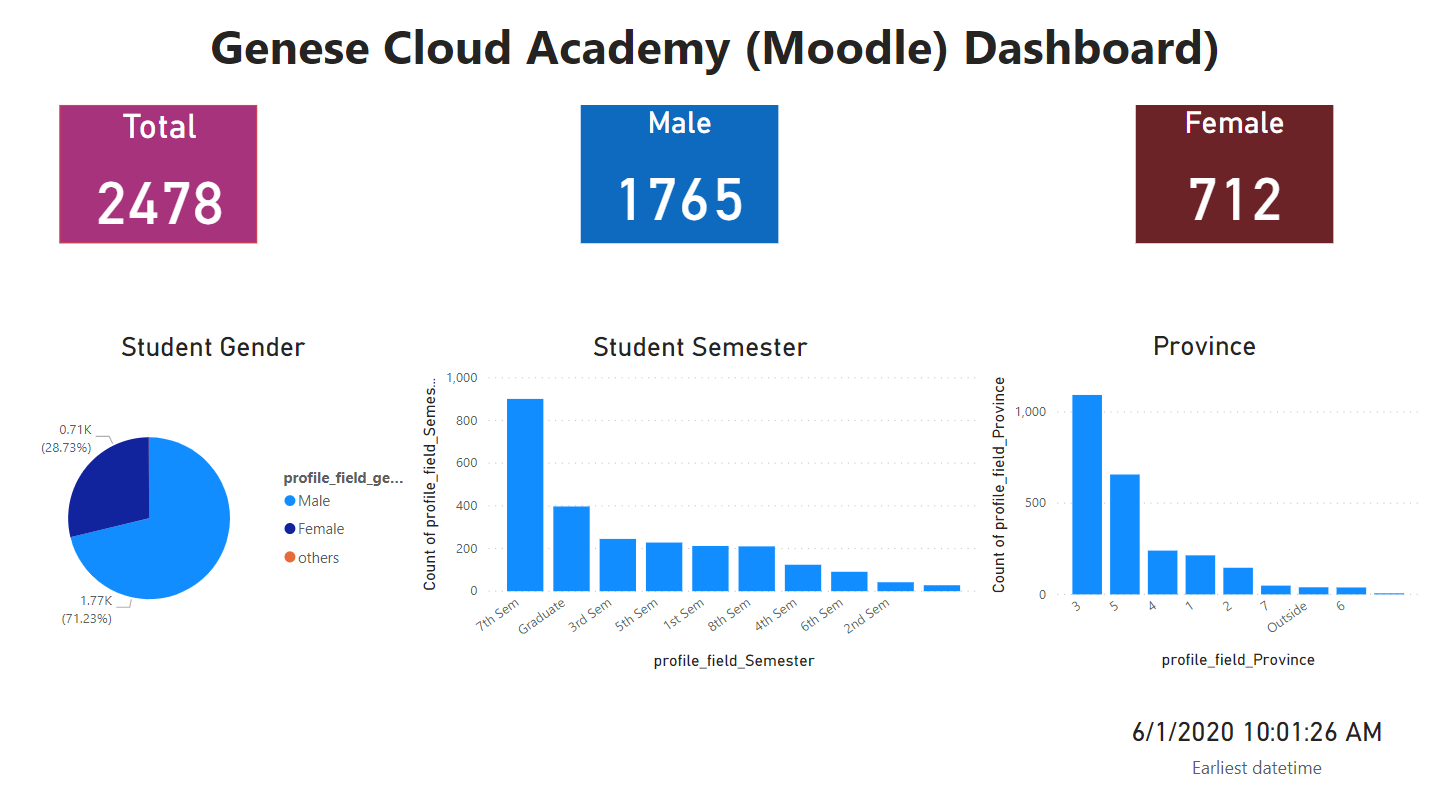

What the dashboard file says about the page in this screenshot:
{"tool":"powerbi","page":{"name":"Dashboard","canvas":[1280,720],"ordinal":0},"visuals":[{"type":"pieChart","title":"Student Gender","fields":{"Category":["user_latest.profile_field_gender1"],"Series":["user_latest.profile_field_gender1"],"Y":["CountNonNull(user_latest.profile_field_gender)"]},"box":[2.1,303.2,367.2,310.5],"z":0},{"type":"columnChart","title":"Student Semester","fields":{"Category":["user_latest.profile_field_Semester1"],"Y":["CountNonNull(user_latest.profile_field_Semester)1"]},"box":[369.4,303.2,513.4,310.5],"z":1000},{"type":"columnChart","title":"Province","fields":{"Category":["user_latest.profile_field_Province1"],"Y":["CountNonNull(user_latest.profile_field_Province)1"]},"box":[882.3,302.7,397.4,310.5],"z":2000},{"type":"card","title":"Total","fields":{"Values":["CountNonNull(user_latest.id)"]},"box":[47.1,98.8,178.8,124.4],"z":3000},{"type":"card","title":"Male","fields":{"Values":["CountNonNull(user_latest.profile_field_gender)"]},"box":[518.2,98.8,178.8,124.4],"z":4000},{"type":"card","title":"Female","fields":{"Values":["CountNonNull(user_latest.profile_field_gender)"]},"box":[1019.5,98.8,178.8,124.4],"z":5000},{"type":"textbox","box":[0,10.9,1279.3,72.5],"z":6000},{"type":"card","fields":{"Values":["Min(Kathmandu.datetime)"]},"box":[994.2,641.5,268.2,68.9],"z":7000}]}

Visuals, with their boxes on the page's 1280x720 design canvas (x1, y1, x2, y2). These are canvas units, not pixel positions in the 1453x788 screenshot, which may show the page scaled, cropped or inside an application window:
"Student Gender" pieChart: <region>2, 303, 369, 614</region>
"Student Semester" columnChart: <region>369, 303, 883, 614</region>
"Province" columnChart: <region>882, 303, 1280, 613</region>
"Total" card: <region>47, 99, 226, 223</region>
"Male" card: <region>518, 99, 697, 223</region>
"Female" card: <region>1020, 99, 1198, 223</region>
textbox: <region>0, 11, 1279, 83</region>
card - Min(Kathmandu.datetime): <region>994, 642, 1262, 710</region>
